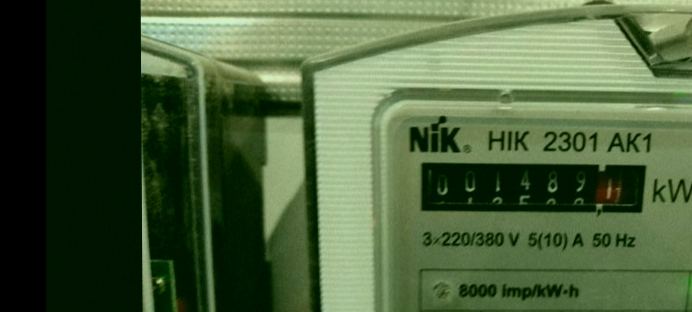0: (461, 168, 477, 194), (434, 173, 449, 198)
1: (490, 167, 504, 196), (602, 173, 614, 203)
4: (517, 168, 533, 194)
8: (543, 168, 560, 195)
9: (572, 170, 587, 195)
screen: (405, 151, 662, 229)
